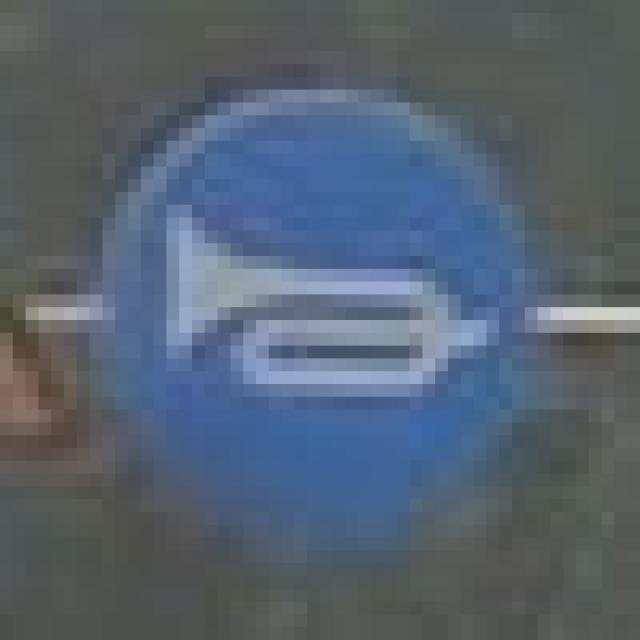COMPULSARY_SOUND_HORN: (76, 64, 538, 550)
